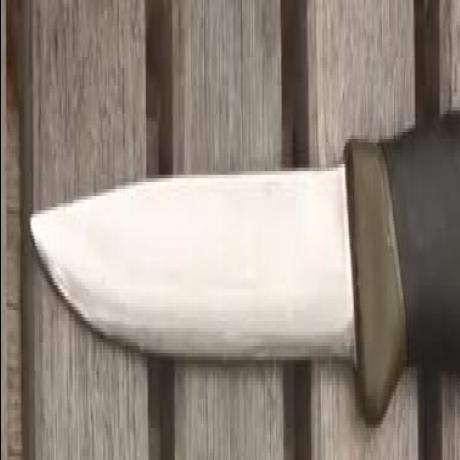weapon: (26, 88, 460, 434)
